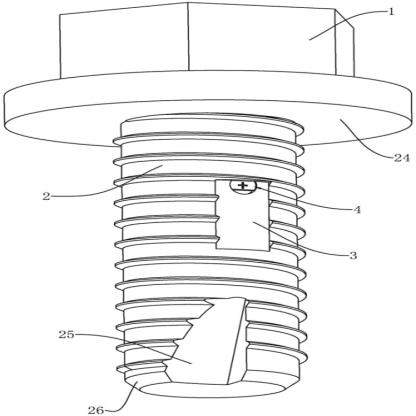FOD: (1, 0, 415, 406)
